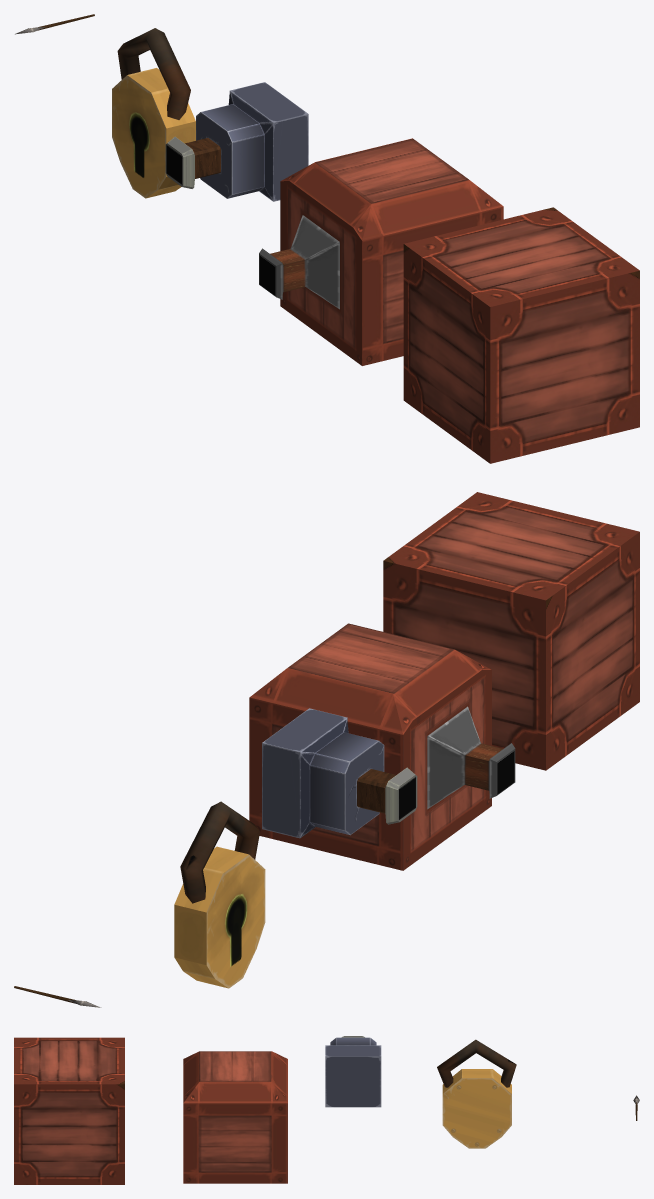
3 renders of one model, top to bottom at view 1: azimuth 30°, elevation 25°; view 2: azimuth 150°, elevation 25°; view 3: azimuth 270°, elevation 25°, orthographic. The views are drawn at different scales.
Visible parts, largest first — view 1: pushable_block, pushable_shooter, wall_shooter, slot_main, slot_ring; view 2: pushable_block, pushable_shooter, wall_shooter, slot_main, slot_ring; view 3: pushable_block, pushable_shooter, slot_main, wall_shooter, slot_ring.
Part boxes in pixels (box(x1,y1,x2,y2)): pushable_block: box(403, 207, 639, 463); pushable_shooter: box(259, 138, 503, 365); wall_shooter: box(165, 82, 308, 201); slot_main: box(112, 68, 195, 198); slot_ring: box(117, 28, 190, 119); pushable_block: box(383, 492, 639, 770); pushable_shooter: box(249, 623, 515, 870); wall_shooter: box(262, 708, 417, 838); slot_main: box(174, 846, 265, 988); slot_ring: box(180, 801, 259, 903); pushable_block: box(14, 1037, 124, 1184); pushable_shooter: box(183, 1051, 287, 1183); slot_main: box(442, 1069, 511, 1148); wall_shooter: box(325, 1036, 381, 1107); slot_ring: box(437, 1039, 516, 1087).
Bounding box in the file's own units: 26.79 × 21.18 × 113.
